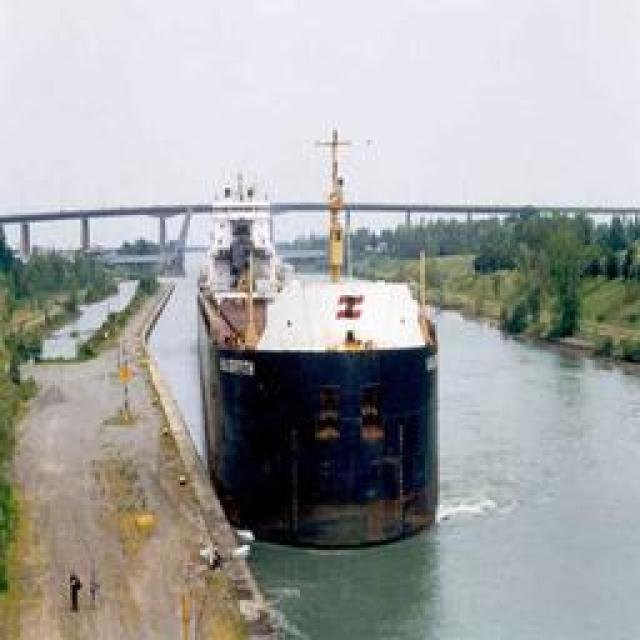CIV_Ship: (192, 266, 442, 549)
